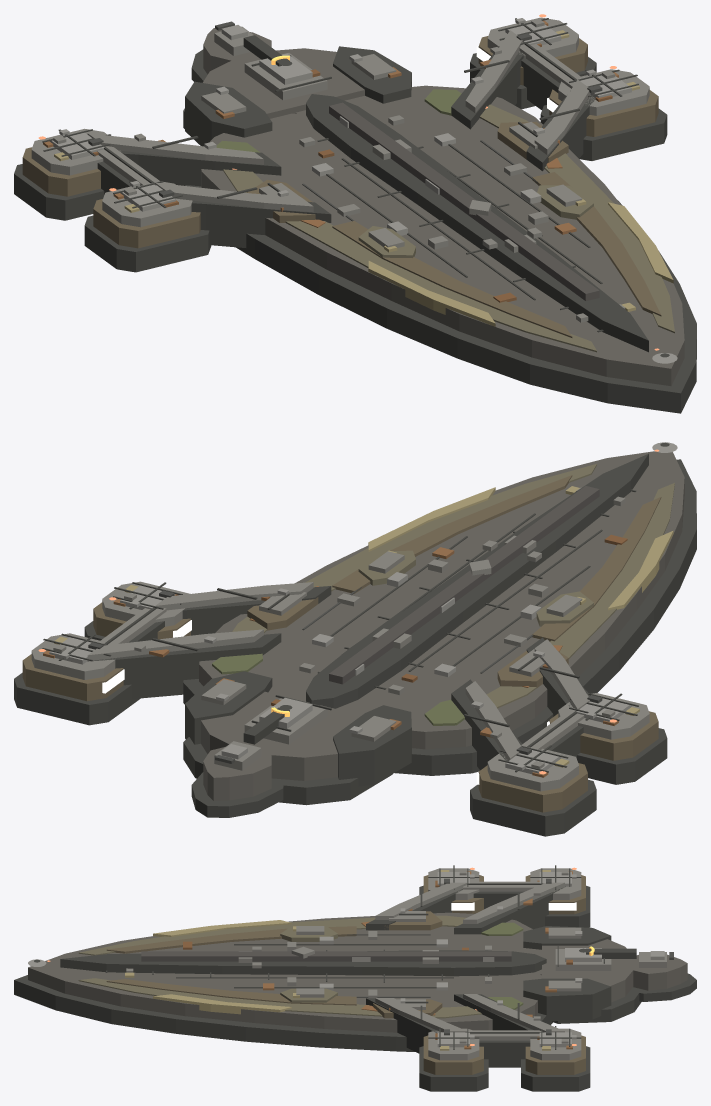
The model's file is civilian_transport.glb.
The picture shows the model from 3 angles, top to bottom: view 1: azimuth 30°, elevation 25°; view 2: azimuth 150°, elevation 25°; view 3: azimuth 270°, elevation 25°; orthographic projection. The views are drawn at different scales.
Visible parts, largest first — view 1: CivilianTransport; view 2: CivilianTransport; view 3: CivilianTransport.
Part boxes in pixels (x1,y1,x2,y2): CivilianTransport: (14,14,696,413); CivilianTransport: (14,442,696,836); CivilianTransport: (14,865,696,1091).
Size of the model in its own units: 1.98 by 0.215 by 2.95.
